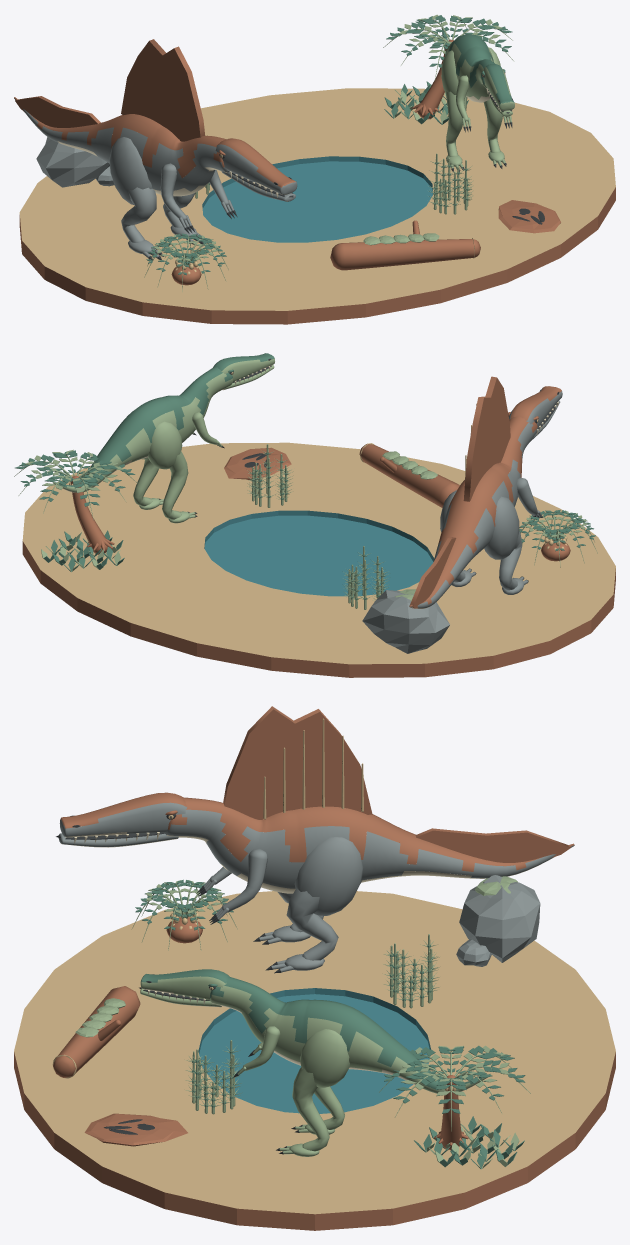
The model's file is primeval-frontier-river-hunters-2a452894-starter-scene__1786.glb.
The picture shows the model from 3 angles, top to bottom: view 1: azimuth 30°, elevation 25°; view 2: azimuth 150°, elevation 25°; view 3: azimuth 270°, elevation 25°; orthographic projection. The views are drawn at different scales.
Parts seen in each view (by area): view 1: 000-lagoon-habitat-base/1, 000-lagoon-habitat-base/2, 001-spinosaurus/0, 001-spinosaurus/1, 000-lagoon-habitat-base/0, 002-baryonyx/0, 008-fallen-conifer-log/0, 006-basalt-boulder/0, 002-baryonyx/2, 005-tree-fern-crooked/2, 007-theropod-track/0, 003-horsetail-colony/0 (+8 smaller); view 2: 000-lagoon-habitat-base/1, 000-lagoon-habitat-base/2, 001-spinosaurus/0, 000-lagoon-habitat-base/0, 002-baryonyx/0, 001-spinosaurus/1, 002-baryonyx/2, 006-basalt-boulder/0, 008-fallen-conifer-log/0, 005-tree-fern-crooked/2, 007-theropod-track/0, 003-horsetail-colony/0 (+8 smaller); view 3: 000-lagoon-habitat-base/1, 001-spinosaurus/0, 001-spinosaurus/1, 002-baryonyx/0, 000-lagoon-habitat-base/2, 000-lagoon-habitat-base/0, 002-baryonyx/2, 006-basalt-boulder/0, 008-fallen-conifer-log/0, 005-tree-fern-crooked/2, 007-theropod-track/0, 004-horsetail-colony/0 (+10 smaller).
Part boxes in pixels (x1=…): 000-lagoon-habitat-base/1: x1=19, y1=88, x2=615, y2=310; 000-lagoon-habitat-base/2: x1=202, y1=156, x2=433, y2=242; 001-spinosaurus/0: x1=14, y1=39, x2=296, y2=187; 001-spinosaurus/1: x1=14, y1=98, x2=297, y2=258; 000-lagoon-habitat-base/0: x1=19, y1=187, x2=615, y2=324; 002-baryonyx/0: x1=441, y1=23, x2=514, y2=169; 008-fallen-conifer-log/0: x1=330, y1=220, x2=480, y2=270; 006-basalt-boulder/0: x1=36, y1=137, x2=114, y2=187; 002-baryonyx/2: x1=441, y1=22, x2=514, y2=104; 005-tree-fern-crooked/2: x1=386, y1=15, x2=512, y2=67; 007-theropod-track/0: x1=498, y1=200, x2=560, y2=233; 003-horsetail-colony/0: x1=428, y1=153, x2=472, y2=214; 000-lagoon-habitat-base/1: x1=22, y1=442, x2=615, y2=664; 000-lagoon-habitat-base/2: x1=204, y1=510, x2=434, y2=596; 001-spinosaurus/0: x1=409, y1=376, x2=561, y2=608; 000-lagoon-habitat-base/0: x1=22, y1=541, x2=615, y2=677; 002-baryonyx/0: x1=52, y1=358, x2=274, y2=523; 001-spinosaurus/1: x1=410, y1=391, x2=562, y2=608; 002-baryonyx/2: x1=53, y1=353, x2=274, y2=487; 006-basalt-boulder/0: x1=362, y1=590, x2=449, y2=653; 008-fallen-conifer-log/0: x1=359, y1=443, x2=459, y2=507; 005-tree-fern-crooked/2: x1=15, y1=450, x2=135, y2=506; 007-theropod-track/0: x1=224, y1=447, x2=291, y2=480; 003-horsetail-colony/0: x1=247, y1=444, x2=293, y2=507; 000-lagoon-habitat-base/1: x1=14, y1=891, x2=615, y2=1214; 001-spinosaurus/0: x1=60, y1=706, x2=574, y2=871; 001-spinosaurus/1: x1=58, y1=802, x2=574, y2=972; 002-baryonyx/0: x1=140, y1=976, x2=490, y2=1156; 000-lagoon-habitat-base/2: x1=198, y1=988, x2=430, y2=1113; 000-lagoon-habitat-base/0: x1=14, y1=1052, x2=615, y2=1230; 002-baryonyx/2: x1=141, y1=969, x2=490, y2=1089; 006-basalt-boulder/0: x1=456, y1=875, x2=540, y2=966; 008-fallen-conifer-log/0: x1=53, y1=986, x2=140, y2=1077; 005-tree-fern-crooked/2: x1=384, y1=1045, x2=525, y2=1113; 007-theropod-track/0: x1=84, y1=1113, x2=187, y2=1146; 004-horsetail-colony/0: x1=383, y1=934, x2=439, y2=1008.
Size of the model in its own units: 16 by 6.07 by 12.48.
